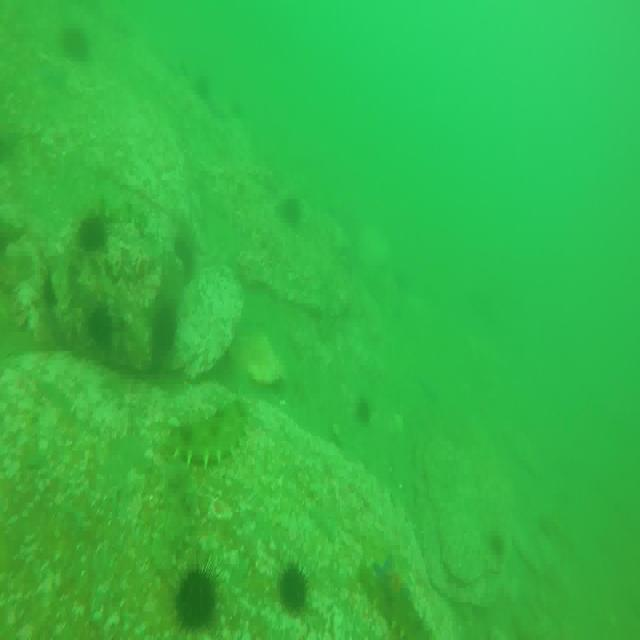echinus: (174, 561, 217, 637), (280, 561, 307, 616), (84, 303, 115, 348), (152, 302, 177, 348), (81, 217, 110, 250), (65, 28, 90, 64), (278, 195, 305, 228), (355, 393, 373, 428)
holothurian: (167, 403, 251, 470), (377, 586, 436, 639)
starfish: (371, 558, 411, 603)
